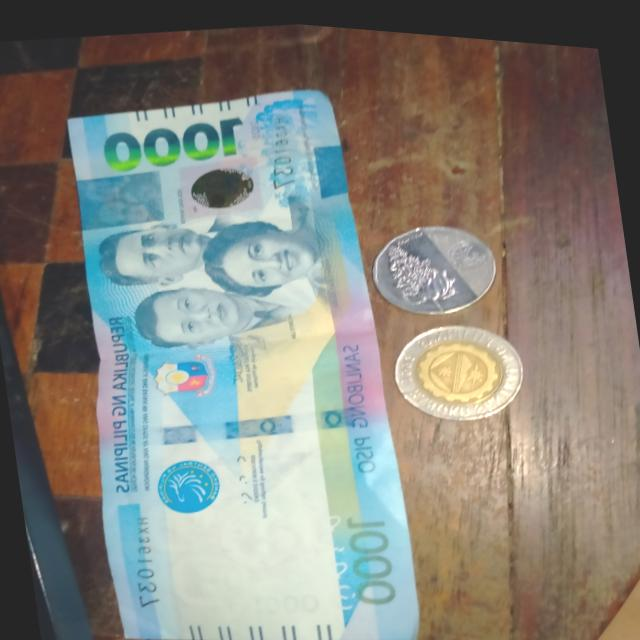concealed_value: (70, 159, 172, 236)
optically_variable_device: (171, 143, 273, 224)
see_through_mark: (302, 497, 364, 617)
value_watermark: (235, 577, 328, 629)
